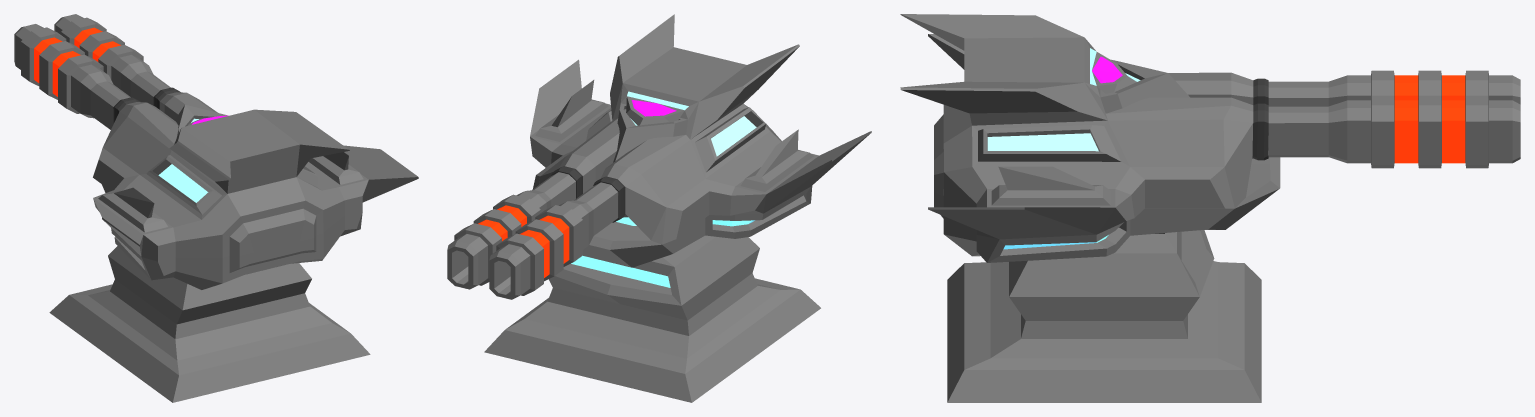
Rendered from Dominator2000.fbx.
The picture shows the model from 3 angles, left to right: view 1: azimuth 30°, elevation 25°; view 2: azimuth 150°, elevation 25°; view 3: azimuth 270°, elevation 25°; orthographic projection. The views are drawn at different scales.
Visible parts, largest first — view 1: Head, Base, Gun; view 2: Head, Base, Gun; view 3: Head, Base, Gun.
Boxes of the visible parts, x1,y1,x2,y2 form: Head: (93,87,418,289); Base: (49,246,370,402); Gun: (14,14,170,129); Head: (530,14,871,267); Base: (484,235,820,402); Gun: (447,172,618,299); Head: (900,14,1280,262); Base: (947,230,1261,402); Gun: (1268,70,1520,168).
Bounding box in the file's own units: 325 × 491 × 254.
